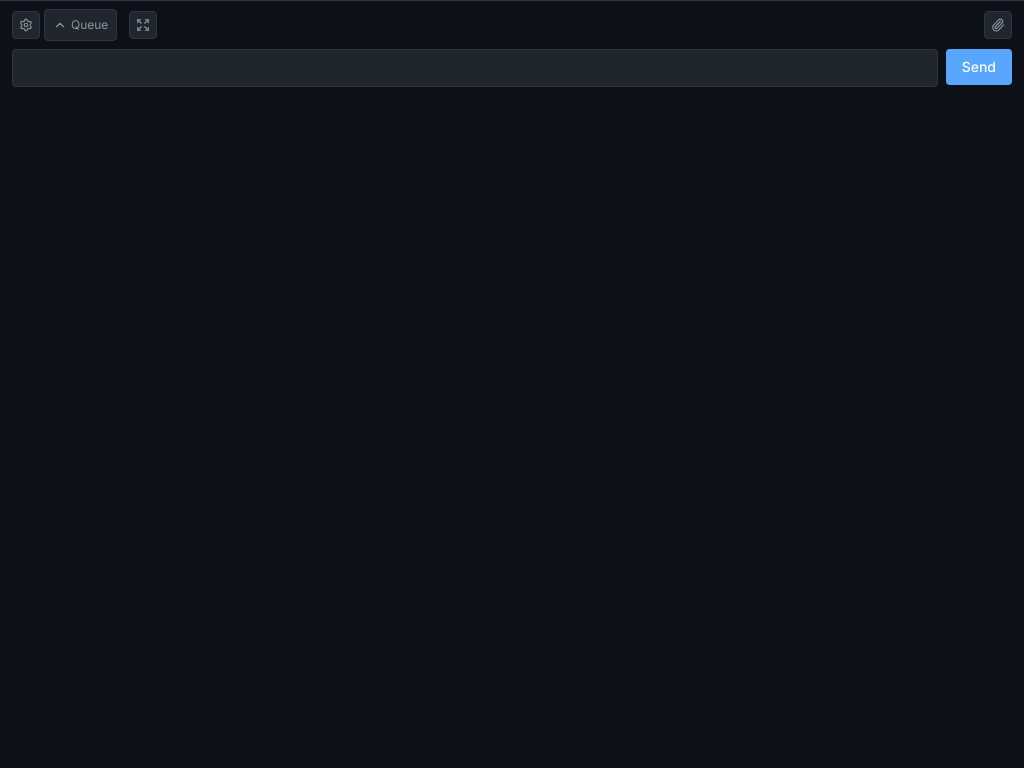
Scenario: InputRow send queue wiring › revalidates a selected server attachment before enqueue and cancels on a stale path
The image size is (1024, 768).
Click the button named "添加附件" at (998, 25), box x1=984 y1=11 x2=1012 y2=39
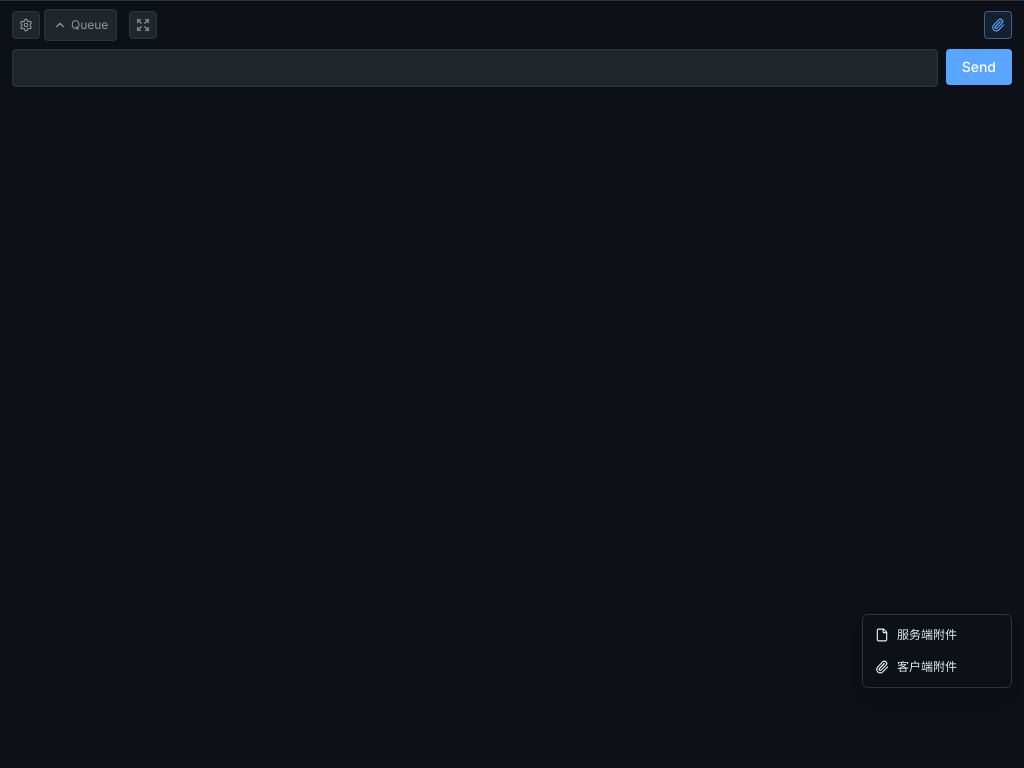
Click the button "服务端附件" at (937, 635), box x1=863 y1=619 x2=1011 y2=651
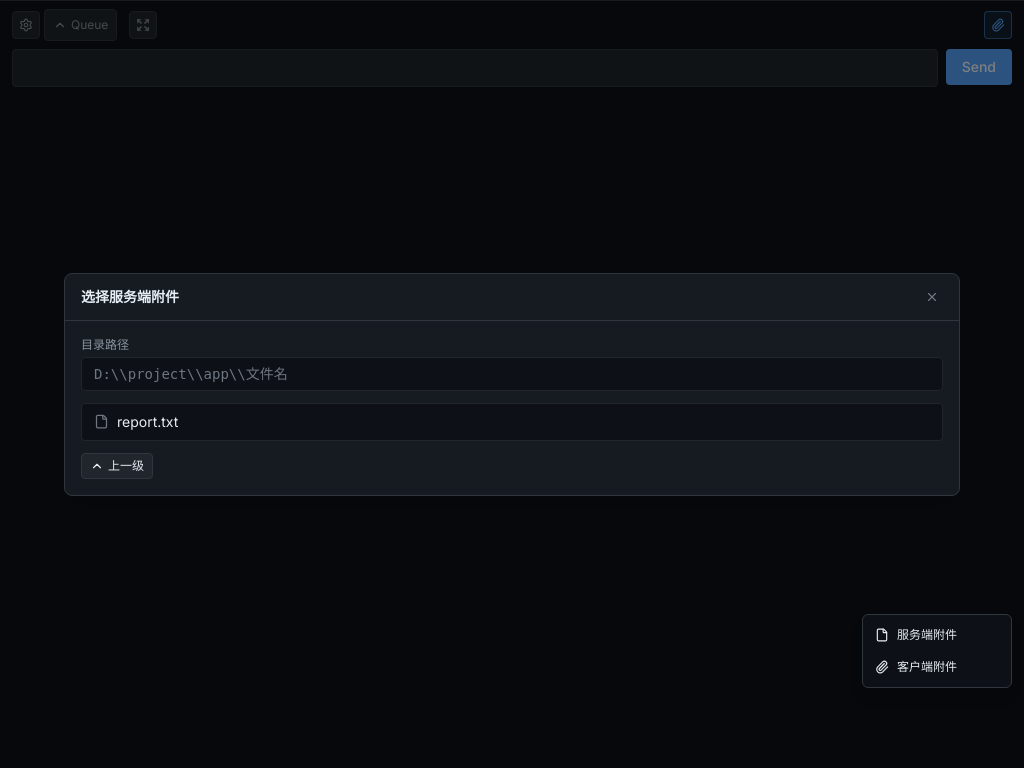
Now the button "report.txt" is shown
Click the button "report.txt" at (148, 421), box x1=82 y1=404 x2=942 y2=440
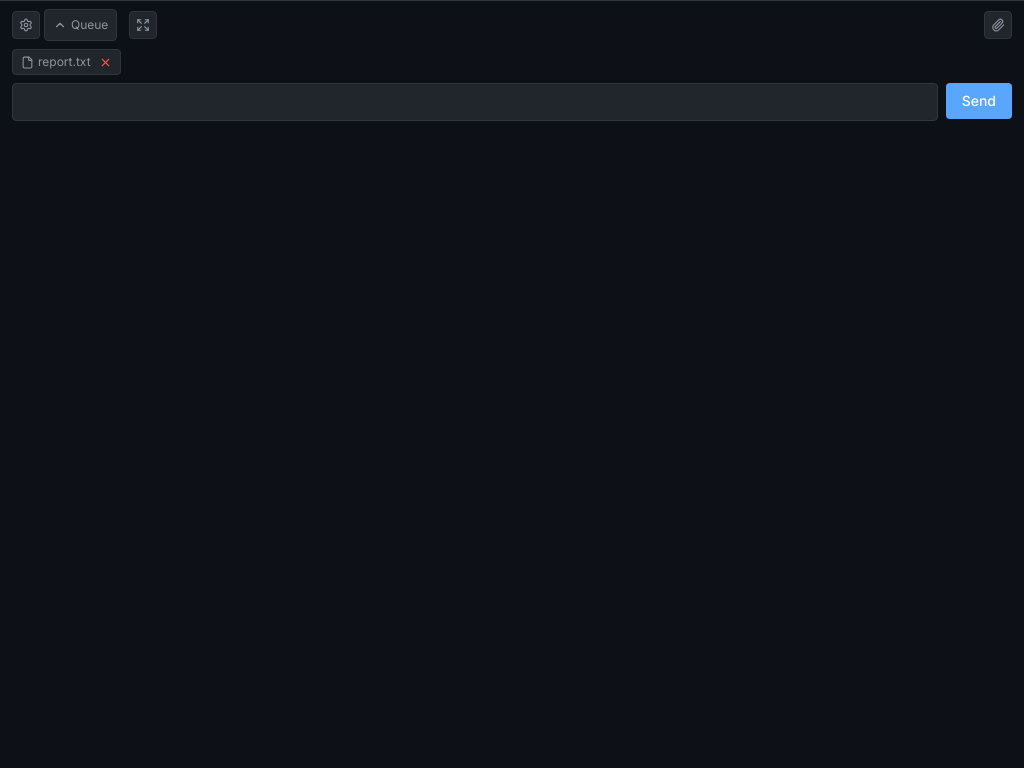
Now the element with test id "server-attachments" reads "report.txt", box x1=38 y1=54 x2=91 y2=69
Click the button "Send" at (979, 101), box x1=946 y1=83 x2=1012 y2=119
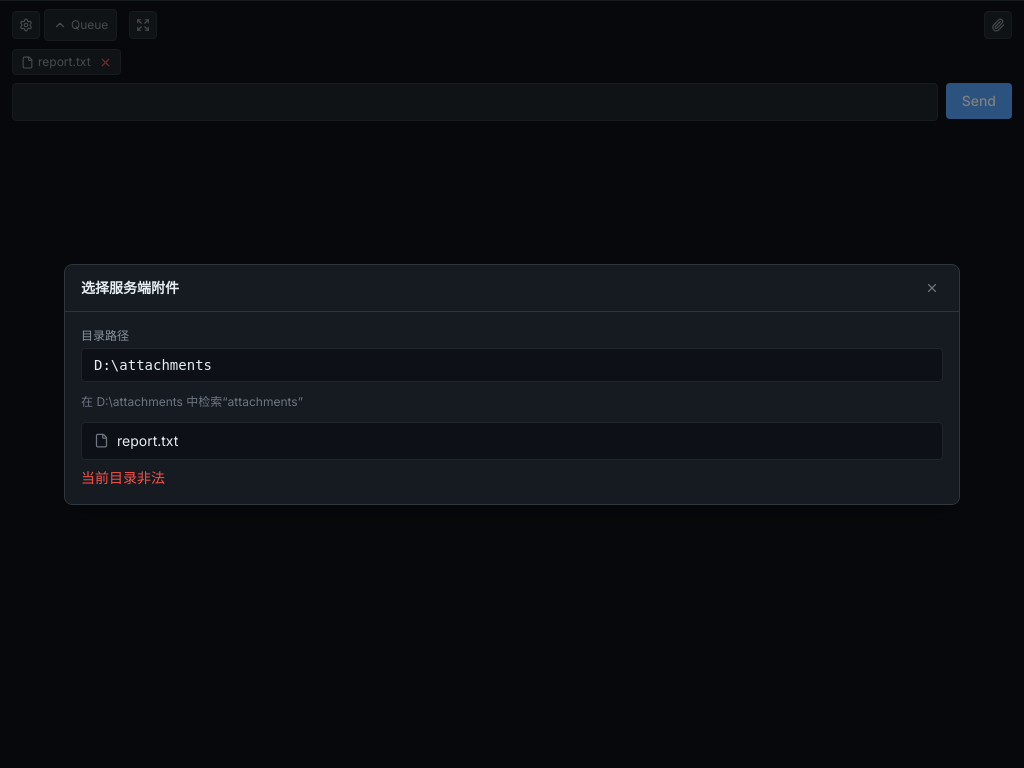
Now the element with test id "server-attachments" is shown, box x1=12 y1=49 x2=121 y2=75
Now the text "当前目录非法" is shown, box x1=81 y1=468 x2=165 y2=486
